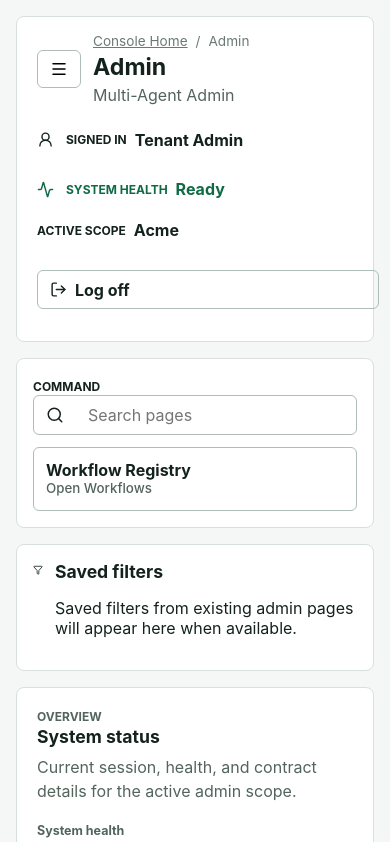
Test case: keyboard and drawer behavior › opens and closes the mobile navigation control accessibly
Click the button named "Open navigation" at x=59, y=69, box [37,50,81,88]
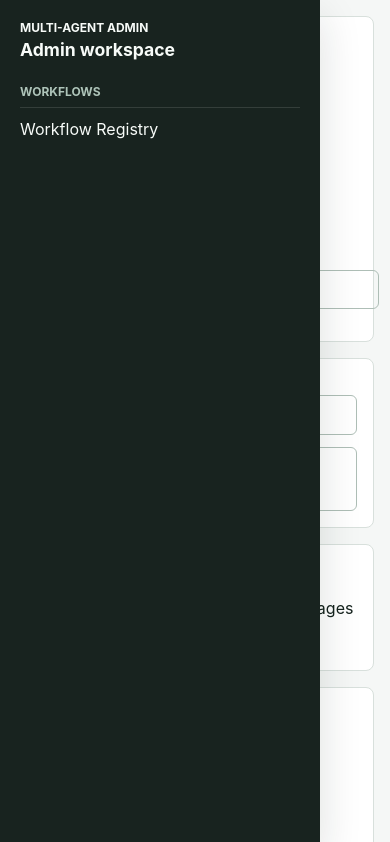
Expected: the button named "Close navigation" is shown, [37,50,81,88]
Expected: the number of elements "Admin navigation" is 2
